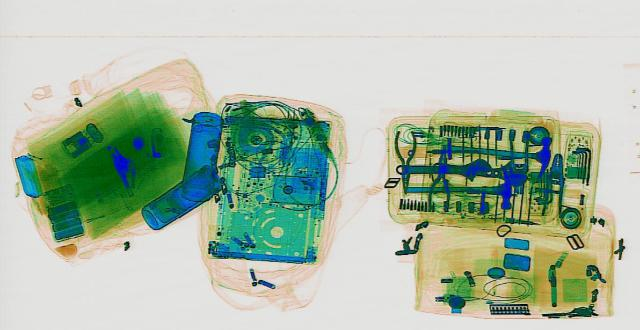Pliers: (424, 144, 458, 206), (540, 152, 568, 216), (392, 130, 416, 192)
Wrench: (395, 156, 529, 180), (430, 155, 494, 181)
